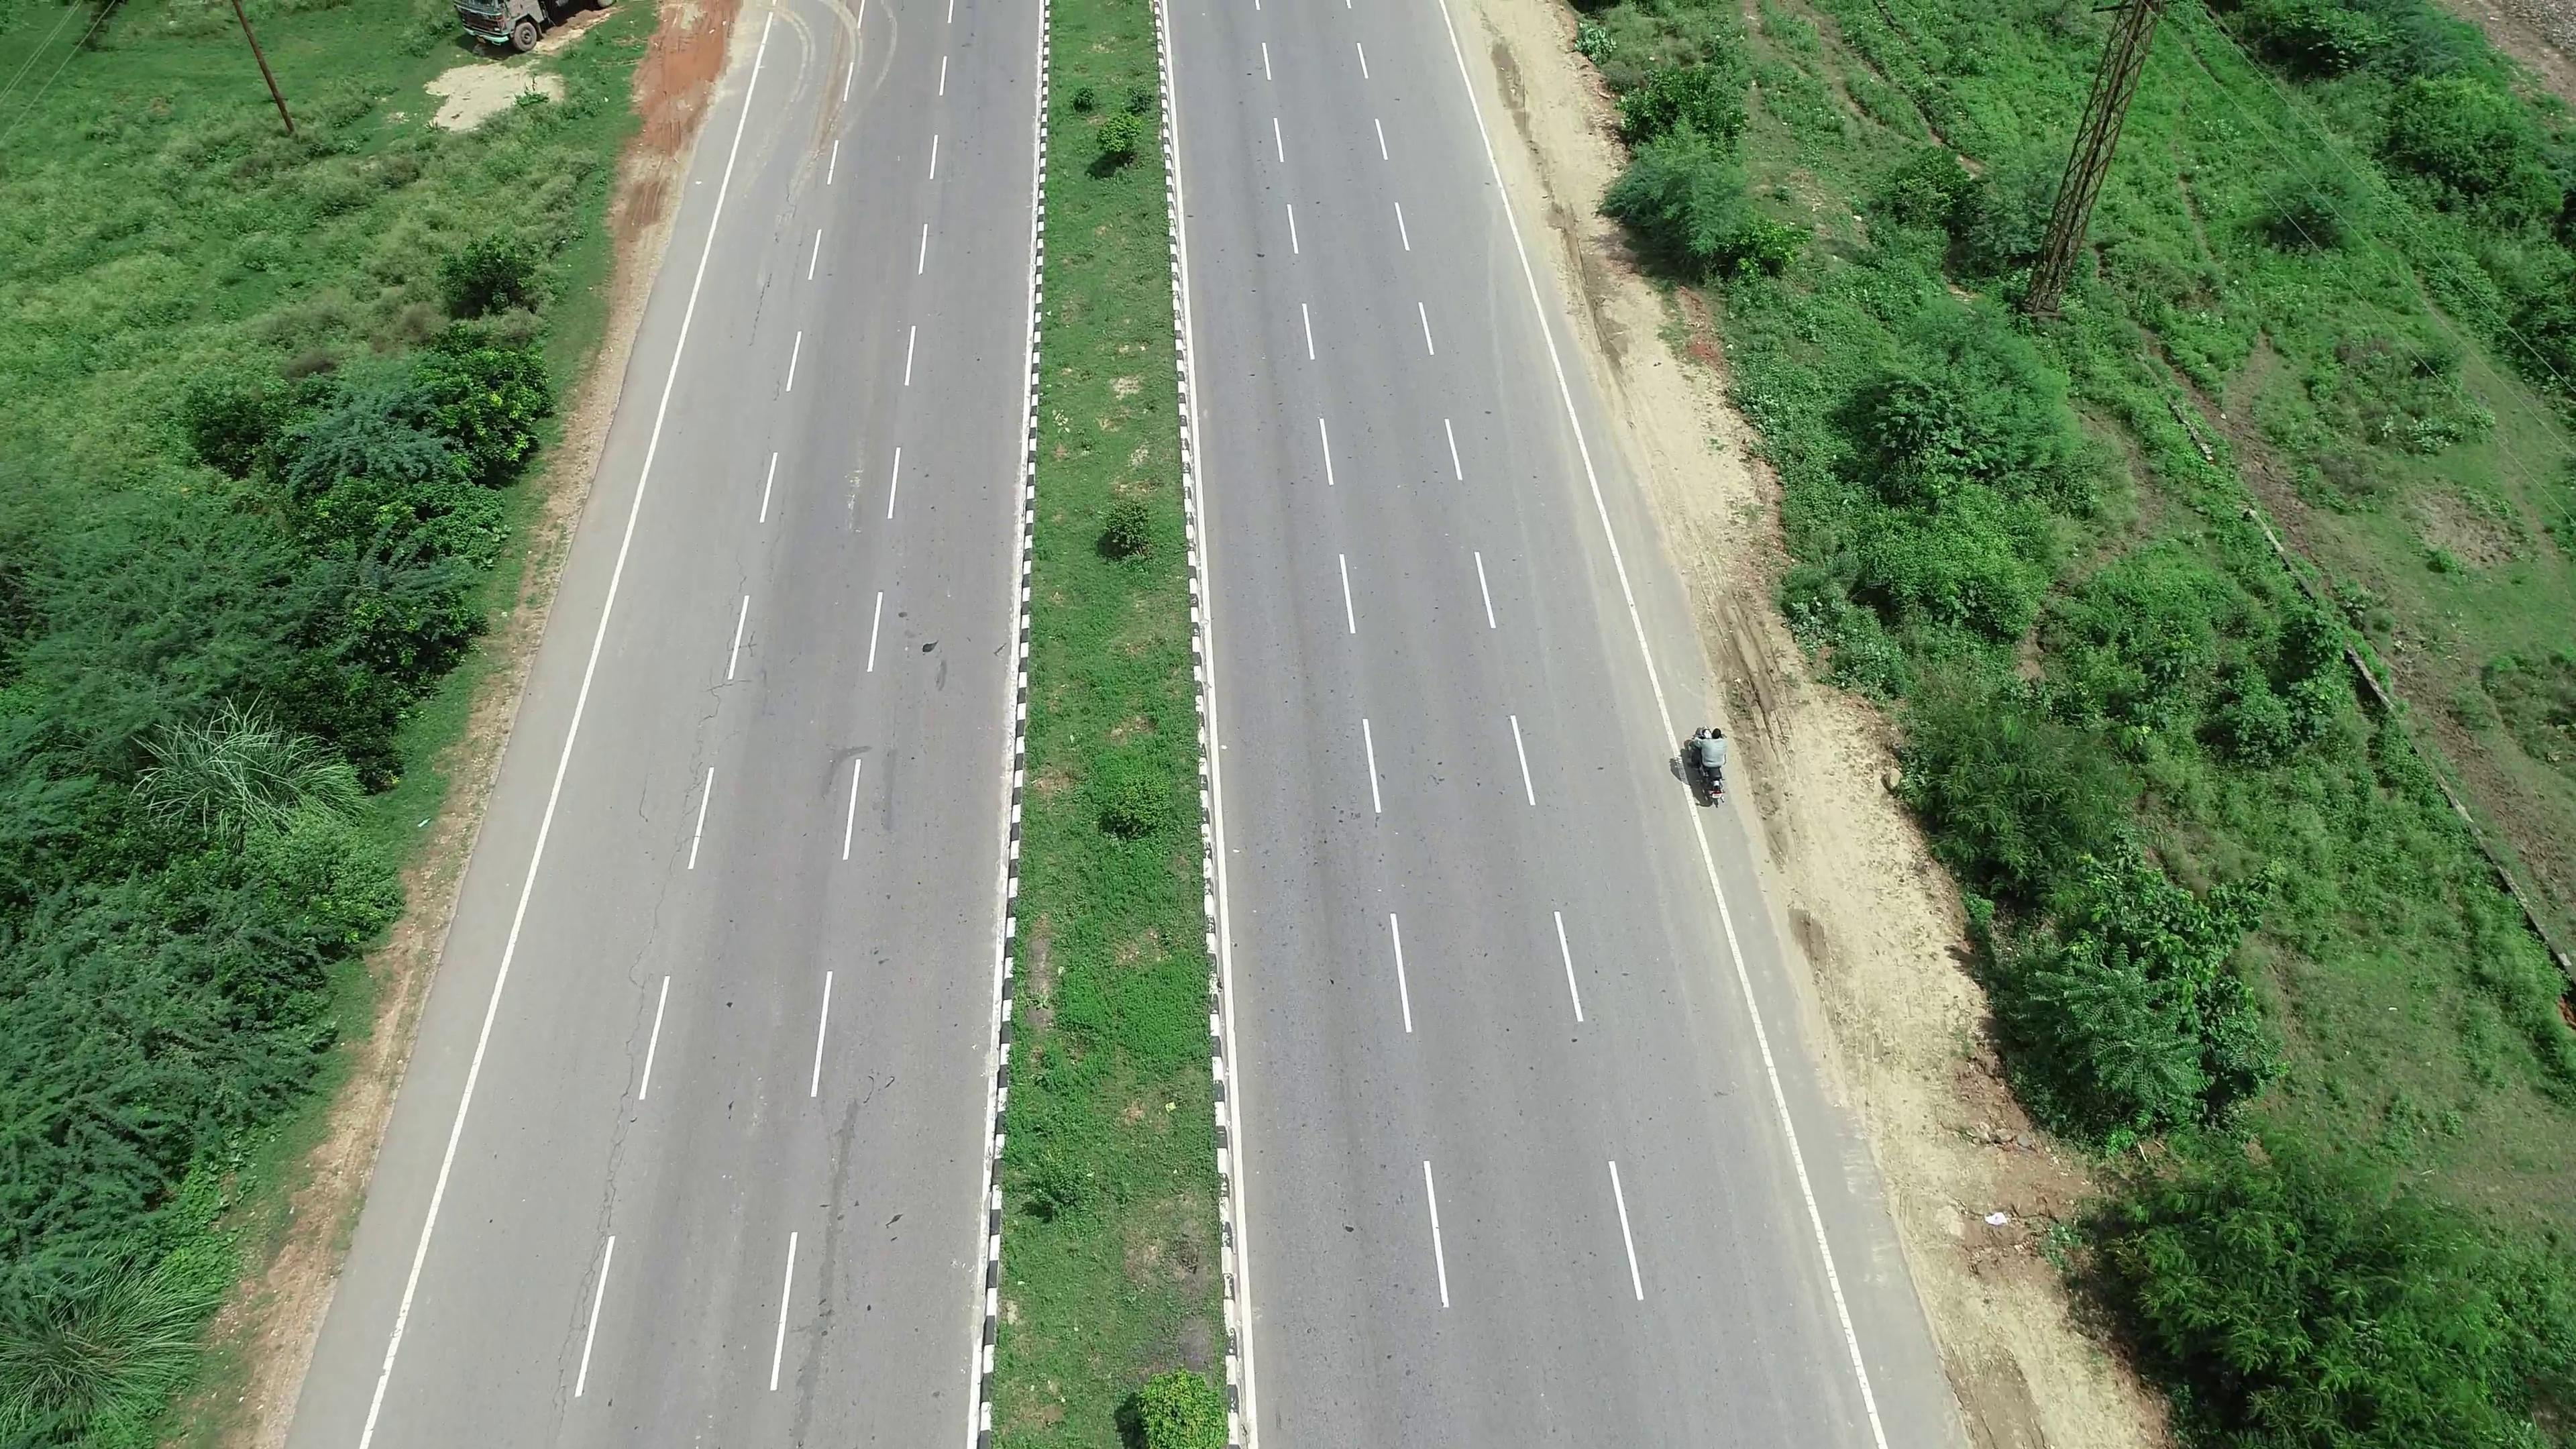Ravelling: (587, 929, 656, 1249), (663, 663, 729, 885)
